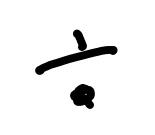div: (36, 30, 118, 108)
